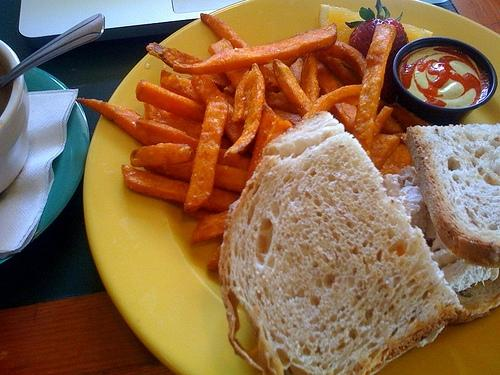lemon: (318, 4, 434, 45)
potato: (173, 23, 338, 74), (160, 68, 301, 124), (352, 24, 396, 162), (207, 38, 277, 122), (122, 165, 240, 212), (184, 93, 228, 212), (223, 63, 265, 158), (190, 74, 244, 144), (143, 160, 248, 194), (76, 97, 145, 143), (136, 79, 207, 122), (318, 59, 358, 134), (272, 58, 314, 119), (144, 102, 202, 140), (302, 84, 362, 120), (315, 41, 367, 82), (200, 13, 250, 49), (130, 142, 192, 168), (146, 42, 205, 68), (190, 210, 228, 244), (389, 104, 432, 132), (322, 58, 362, 86), (369, 134, 400, 170), (380, 142, 412, 176), (300, 52, 320, 102), (378, 104, 406, 134), (264, 92, 298, 114), (258, 64, 280, 94), (372, 105, 392, 137), (290, 58, 304, 87), (207, 244, 221, 271), (223, 84, 236, 98)
strawberry: (349, 18, 409, 105)
